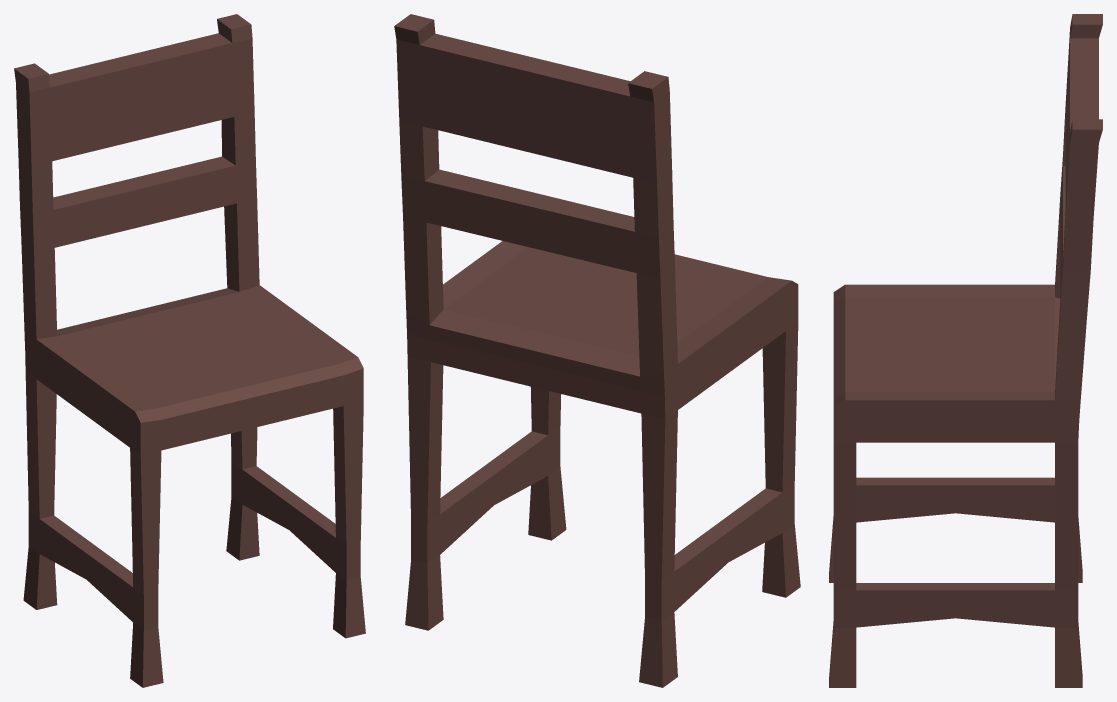
File: cadeira de jantar.fbx
3 renders of one model, left to right at view 1: azimuth 30°, elevation 25°; view 2: azimuth 150°, elevation 25°; view 3: azimuth 270°, elevation 25°, orthographic. The views are drawn at different scales.
Parts seen in each view (by area): view 1: Cadeira de Jantar; view 2: Cadeira de Jantar; view 3: Cadeira de Jantar.
Boxes of the visible parts, <box> form: Cadeira de Jantar: <box>14,14,365,687</box>; Cadeira de Jantar: <box>394,14,800,687</box>; Cadeira de Jantar: <box>829,14,1102,687</box>.
Size of the model in its own units: 40 by 90 by 40.
